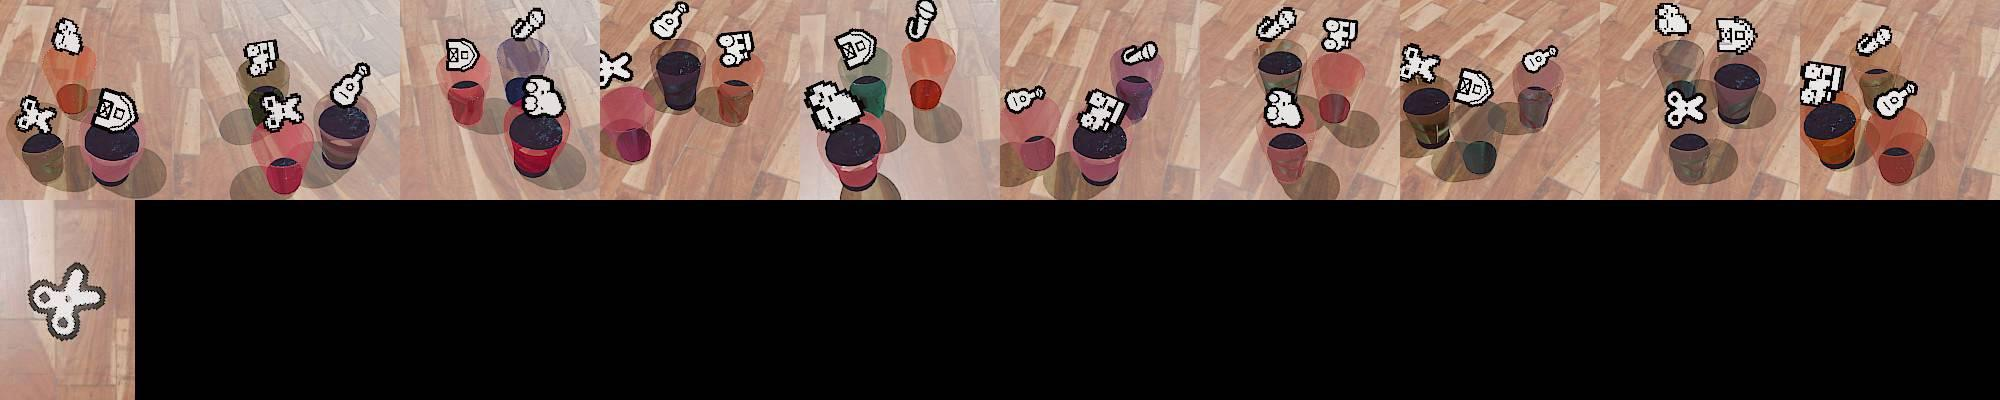icon: (25, 262, 106, 340), (803, 78, 869, 131), (1075, 87, 1129, 134), (1798, 59, 1847, 107), (94, 87, 139, 131), (520, 76, 567, 118), (330, 61, 372, 108), (1664, 84, 1707, 129), (1874, 79, 1921, 120), (260, 90, 304, 132), (834, 28, 878, 69), (1715, 16, 1758, 57), (15, 95, 58, 136), (1398, 43, 1440, 84), (649, 1, 690, 41), (1264, 87, 1304, 127), (715, 29, 757, 67), (1256, 5, 1297, 43), (1454, 68, 1493, 107), (243, 38, 281, 78), (597, 49, 634, 89), (1320, 16, 1358, 53), (905, 0, 938, 42), (1653, 2, 1690, 38), (51, 17, 84, 56), (1856, 24, 1894, 57), (1005, 84, 1046, 114), (445, 37, 480, 72), (510, 7, 544, 41), (1522, 44, 1560, 74), (1121, 40, 1159, 65)
